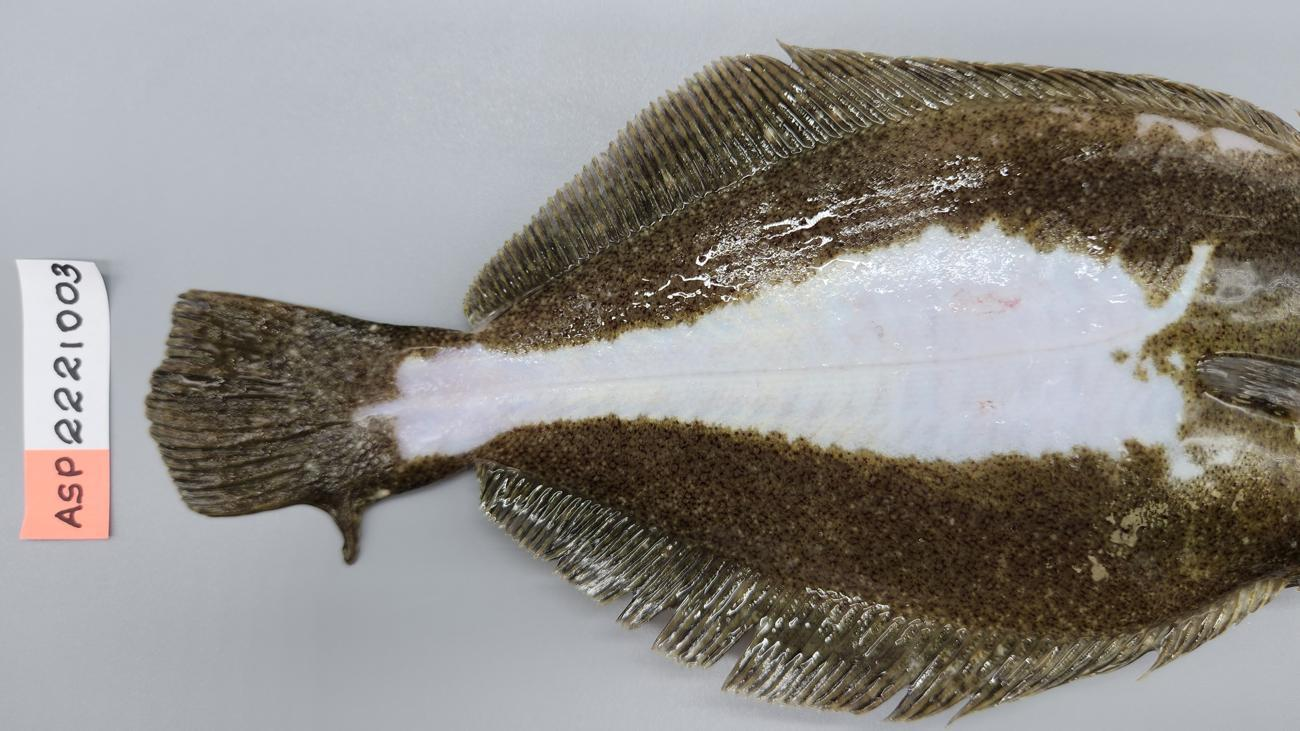SPDYH: (1246, 498, 1299, 584), (940, 285, 1022, 320)
